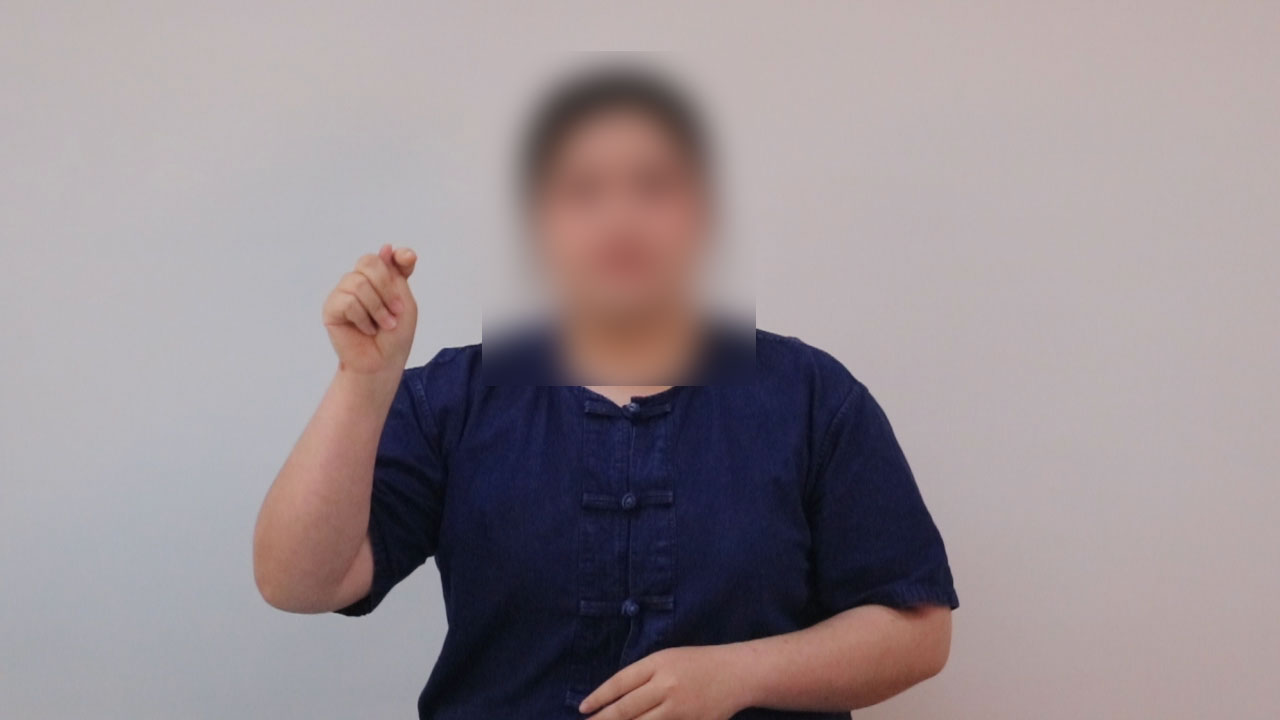tor: (300, 225, 451, 395)
